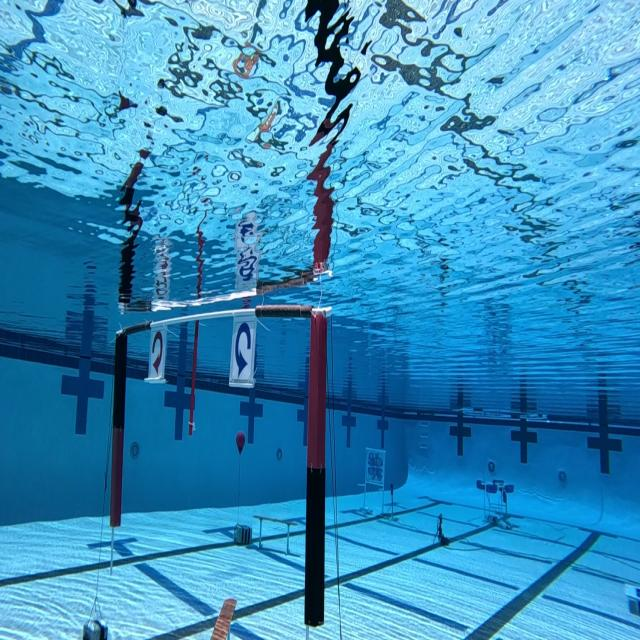blue_side: (228, 312, 259, 390)
red_side: (147, 325, 168, 384)
